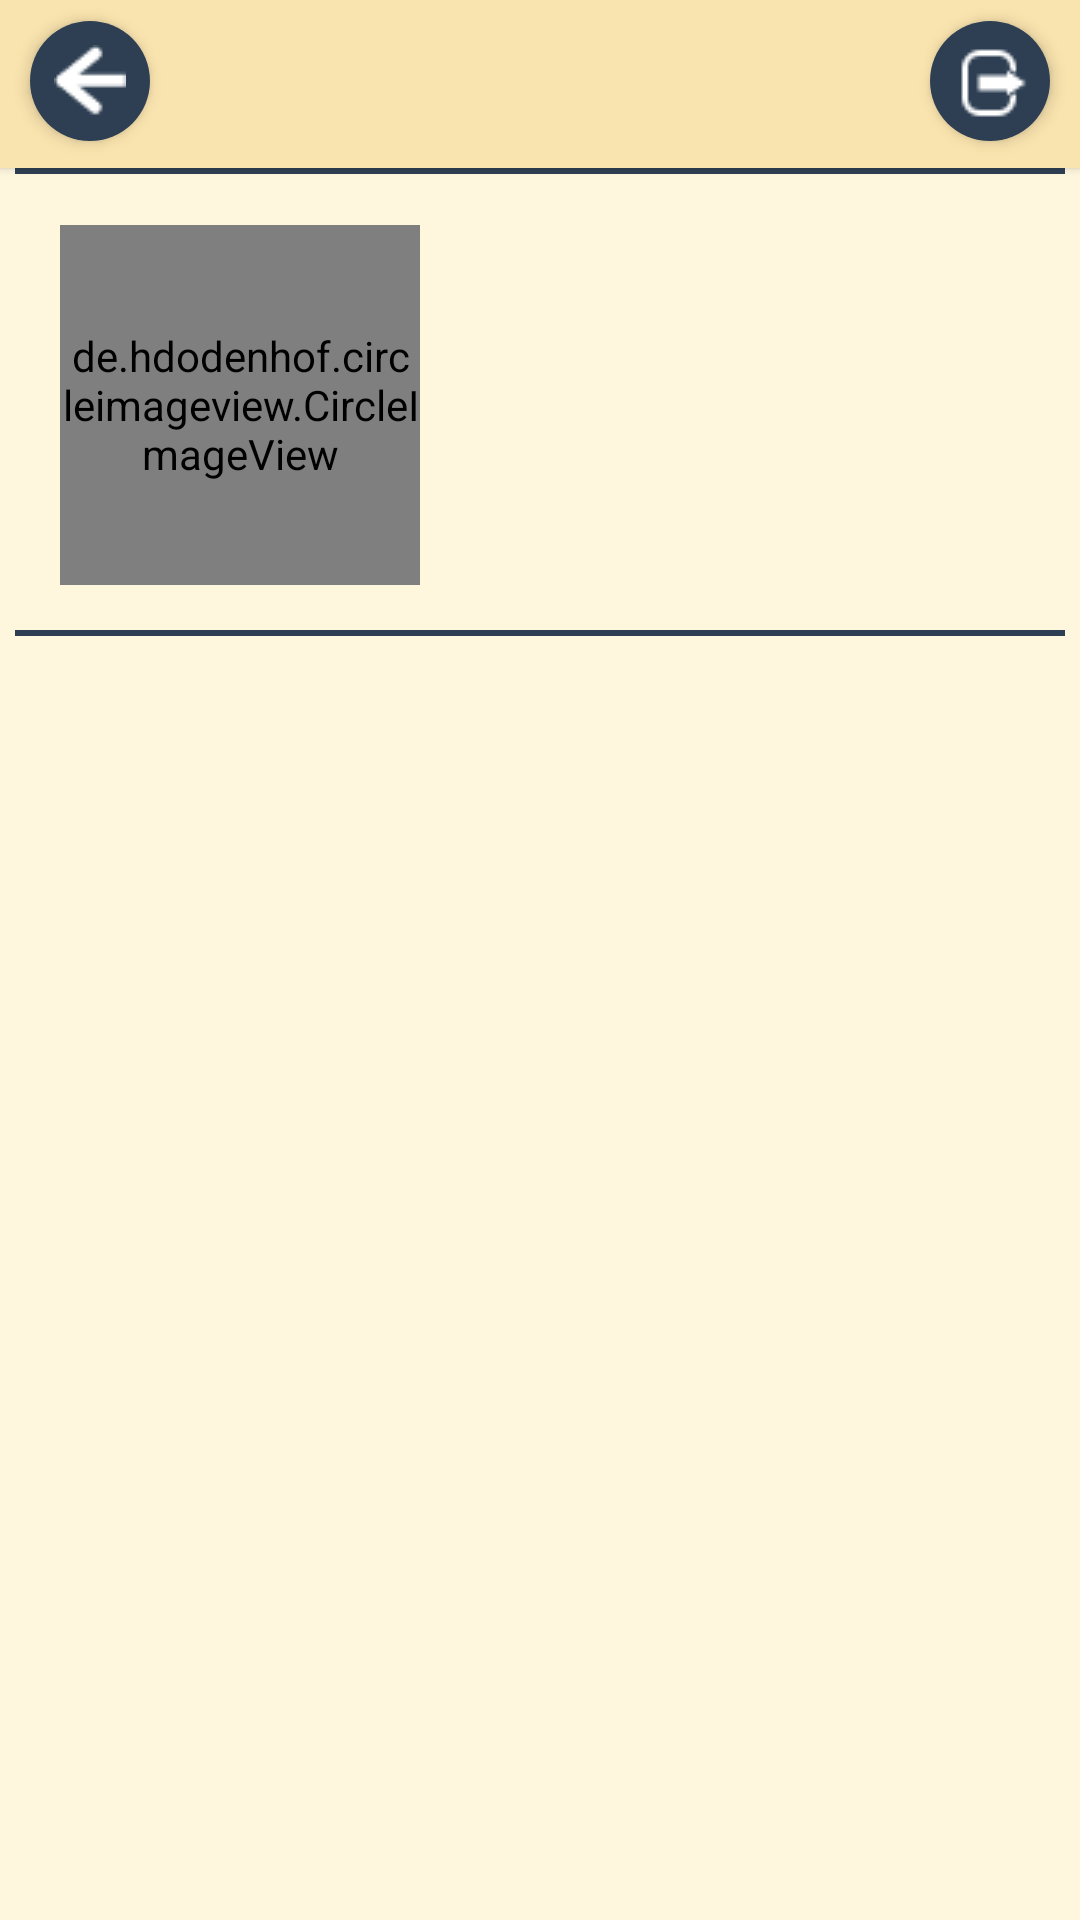

Locate icon controls on the screen. Image size 1080×1920, boxes as [x1,y1,x2,y2].
back: [30,21,150,141]
